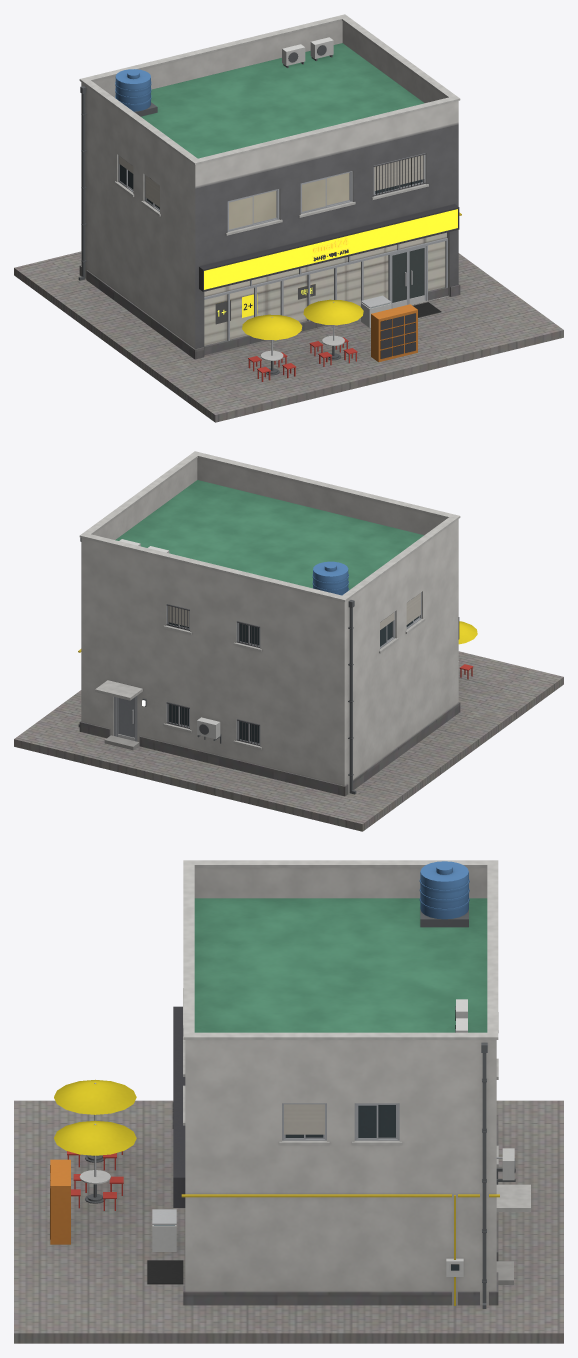
File: IlsanEmart24.fbx
The picture shows the model from 3 angles, top to bottom: view 1: azimuth 30°, elevation 25°; view 2: azimuth 150°, elevation 25°; view 3: azimuth 270°, elevation 25°; orthographic projection. The views are drawn at different scales.
Parts seen in each view (by area): view 1: IlsanEmart24; view 2: IlsanEmart24; view 3: IlsanEmart24.
Part boxes in pixels (x1=…): IlsanEmart24: x1=14, y1=14, x2=563, y2=422; IlsanEmart24: x1=14, y1=451, x2=563, y2=831; IlsanEmart24: x1=14, y1=860, x2=563, y2=1343.
Bounding box in the file's own units: 15.9 × 9.4 × 15.9.
Materials: 1 (1 with a texture image).
